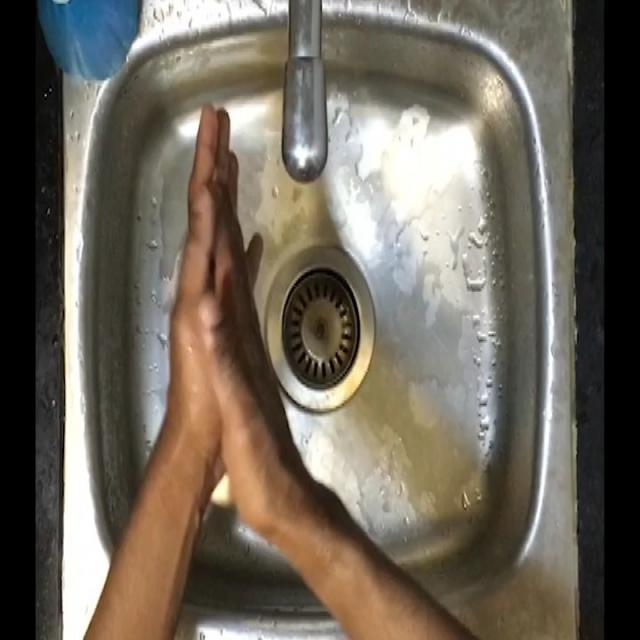step_1: (148, 92, 292, 443)
